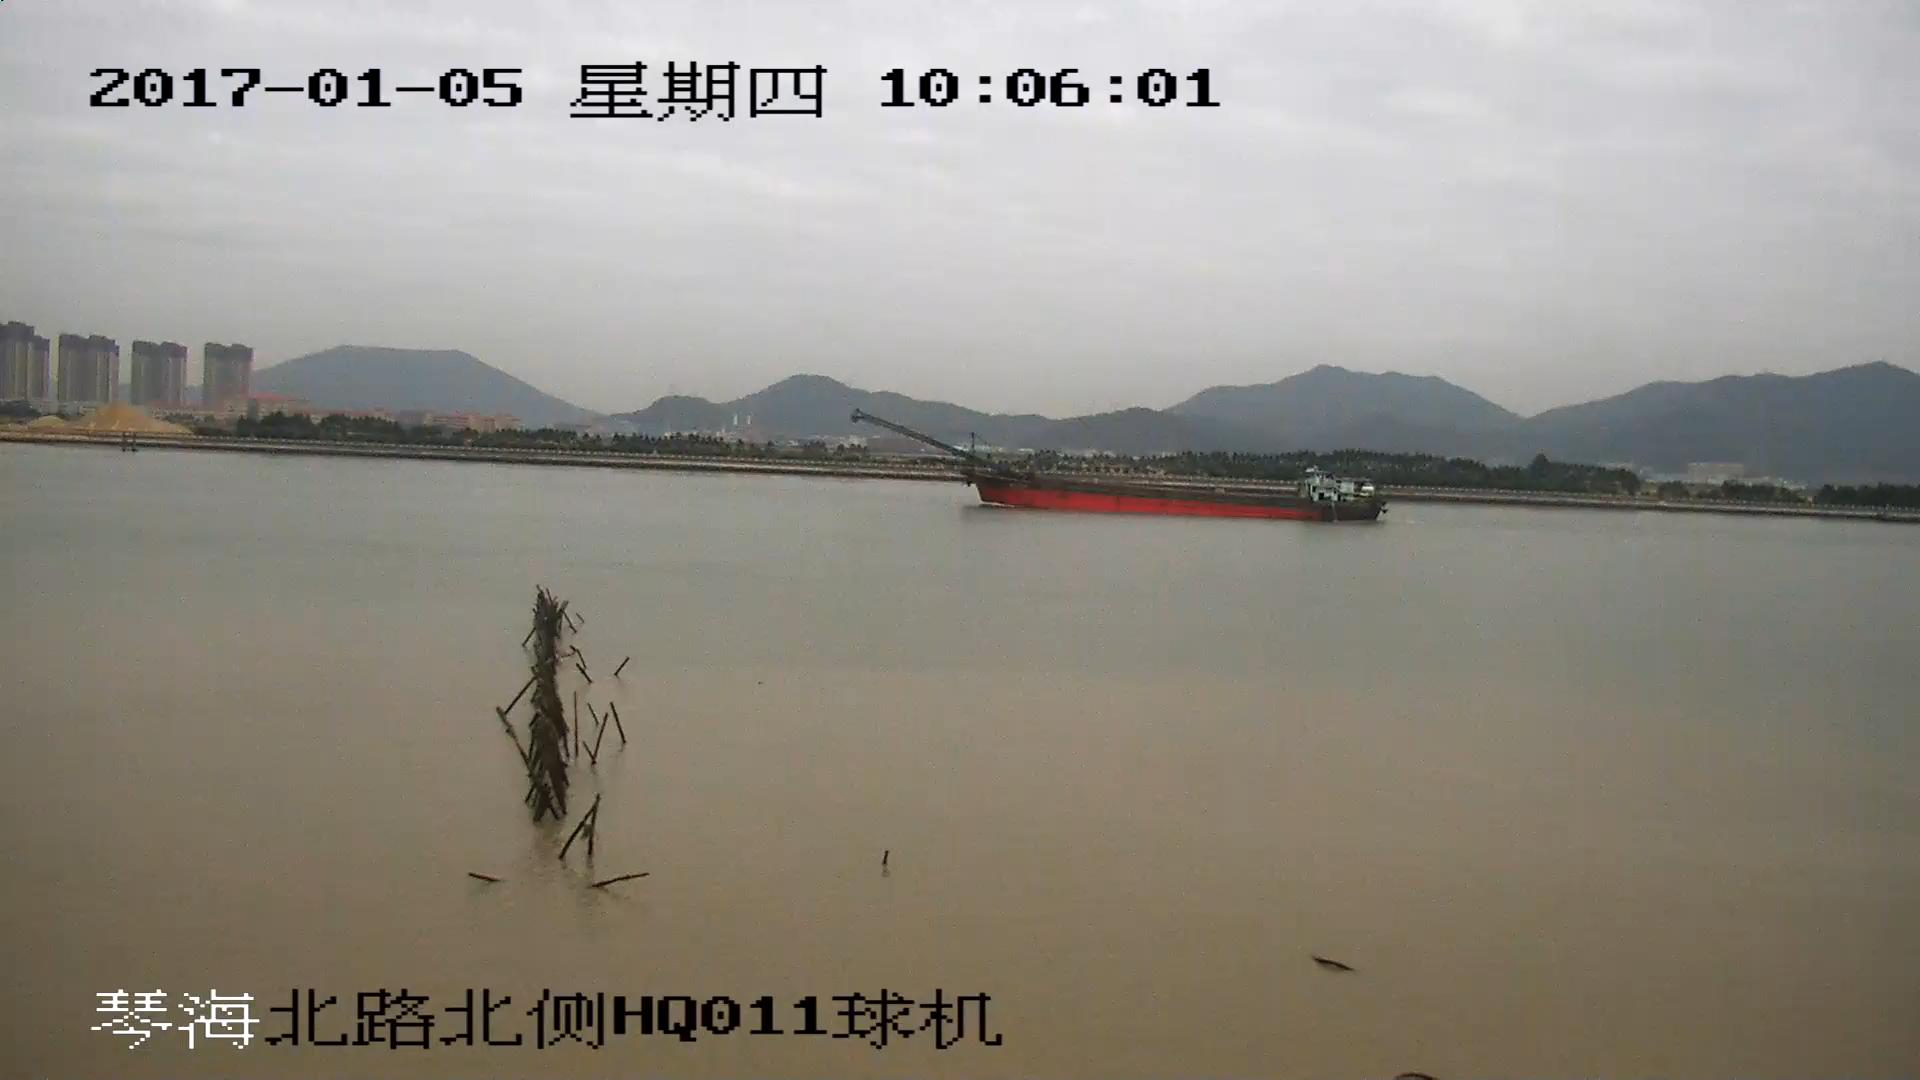bulk cargo carrier: (856, 411, 1385, 523)
